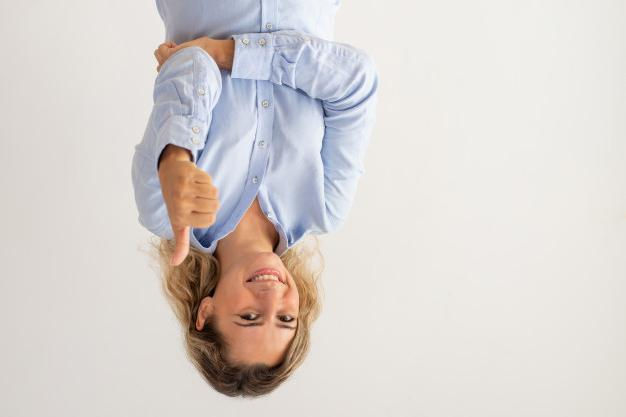thumbsdown: (168, 169, 220, 267)
